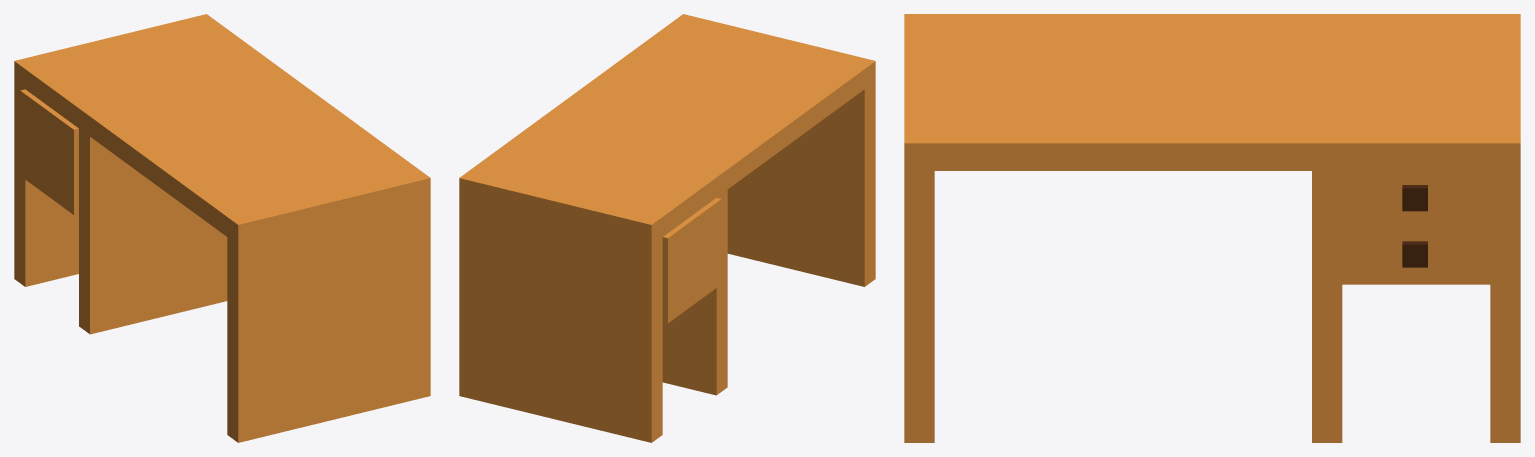
The model's file is Desk.FBX.
3 renders of one model, left to right at view 1: azimuth 30°, elevation 25°; view 2: azimuth 150°, elevation 25°; view 3: azimuth 270°, elevation 25°, orthographic. The views are drawn at different scales.
Visible parts, largest first — view 1: Box004, Box001, Box009, Box010, Box011, Box002, Box005, Box006; view 2: Box004, Box002, Box001, Box009, Box010, Box005, Box006, Box011; view 3: Box004, Box002, Box006, Box005, Box009, Box011, Box001, Box010, Box007, Box008.
Part boxes in pixels (left/top/right/bottom): Box004: left=14, top=14, right=430, bottom=244; Box001: left=227, top=295, right=430, bottom=442; Box009: left=227, top=198, right=430, bottom=341; Box010: left=79, top=209, right=227, bottom=334; Box011: left=79, top=129, right=192, bottom=236; Box002: left=14, top=81, right=78, bottom=286; Box005: left=20, top=89, right=78, bottom=172; Box006: left=20, top=133, right=78, bottom=214; Box004: left=459, top=14, right=875, bottom=244; Box002: left=459, top=198, right=662, bottom=442; Box001: left=727, top=165, right=875, bottom=286; Box009: left=762, top=81, right=875, bottom=189; Box010: left=662, top=287, right=727, bottom=395; Box005: left=662, top=197, right=721, bottom=280; Box006: left=662, top=242, right=721, bottom=323; Box011: left=706, top=190, right=727, bottom=297; Box004: left=904, top=14, right=1520, bottom=170; Box002: left=1490, top=171, right=1520, bottom=442; Box006: left=1342, top=226, right=1490, bottom=284; Box005: left=1342, top=171, right=1490, bottom=225; Box009: left=904, top=171, right=934, bottom=309; Box011: left=1312, top=171, right=1342, bottom=309; Box001: left=904, top=305, right=934, bottom=442; Box010: left=1312, top=309, right=1342, bottom=442; Box007: left=1402, top=241, right=1427, bottom=267; Box008: left=1402, top=185, right=1427, bottom=211.
Size of the model in its own units: 48.51 by 51.12 by 95.28.
